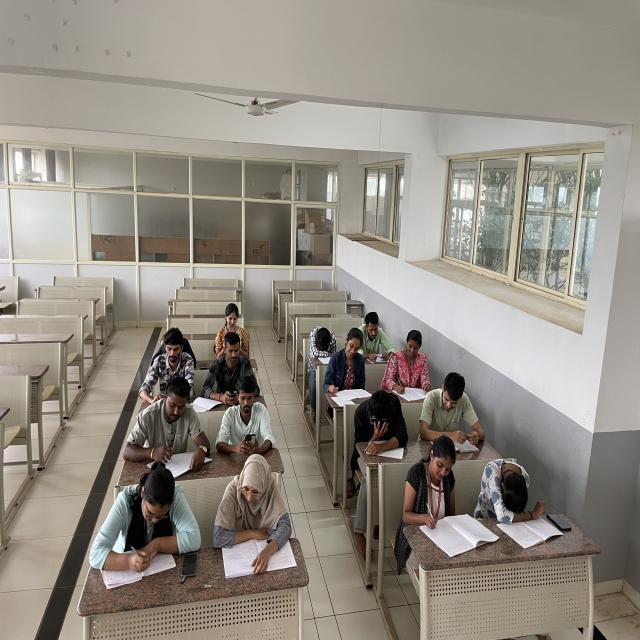Reading: (220, 450, 292, 569), (421, 365, 494, 460), (135, 376, 205, 473), (356, 307, 398, 358)
Sleeping: (478, 440, 538, 526), (306, 318, 344, 374)
Using Phone: (219, 379, 278, 463), (193, 337, 261, 406), (356, 386, 408, 456), (209, 300, 253, 360)
Writing: (104, 463, 178, 569), (405, 431, 467, 538), (387, 319, 436, 402), (328, 330, 374, 404)
